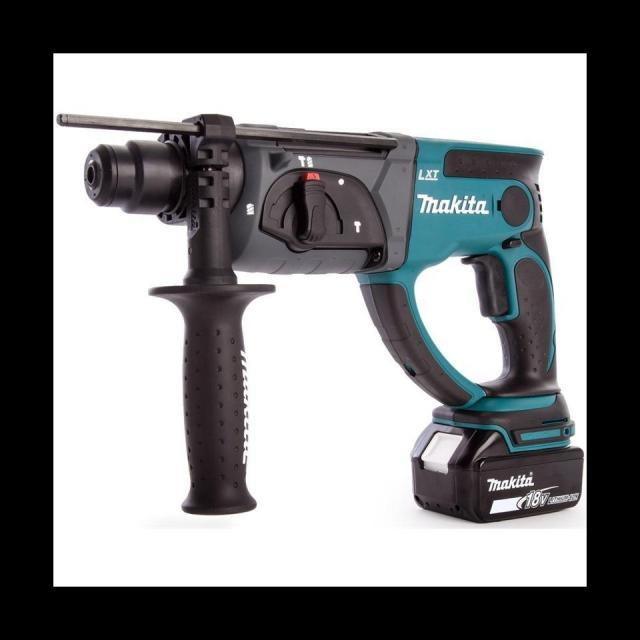drill: (56, 112, 584, 524)
